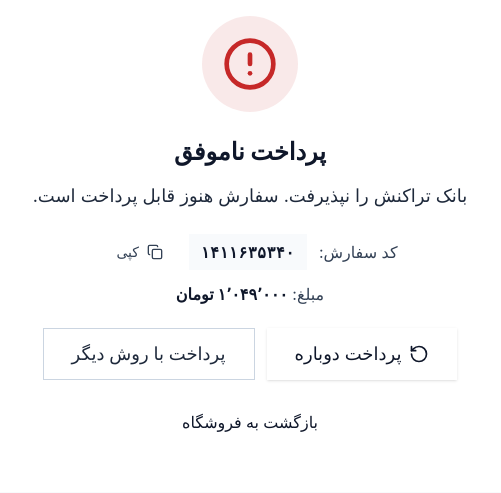
Scenario: a door this device knows › a refused press is said; the next press has a new key
Later steps or results of the test are not shown.
Click the button "پرداخت دوباره" at (362, 354), box [266, 328, 457, 380]
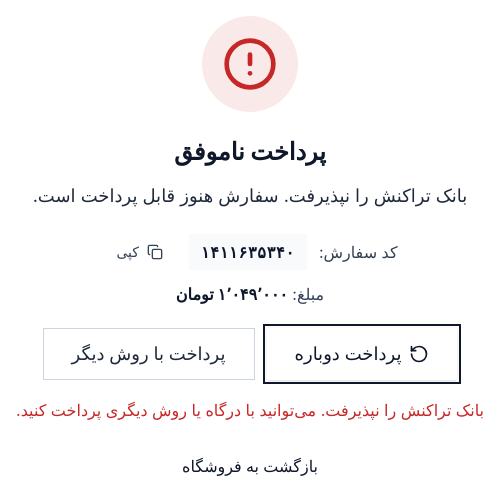
Expected: the message shows "بانک تراکنش را نپذیرفت", [16, 400, 484, 420]
